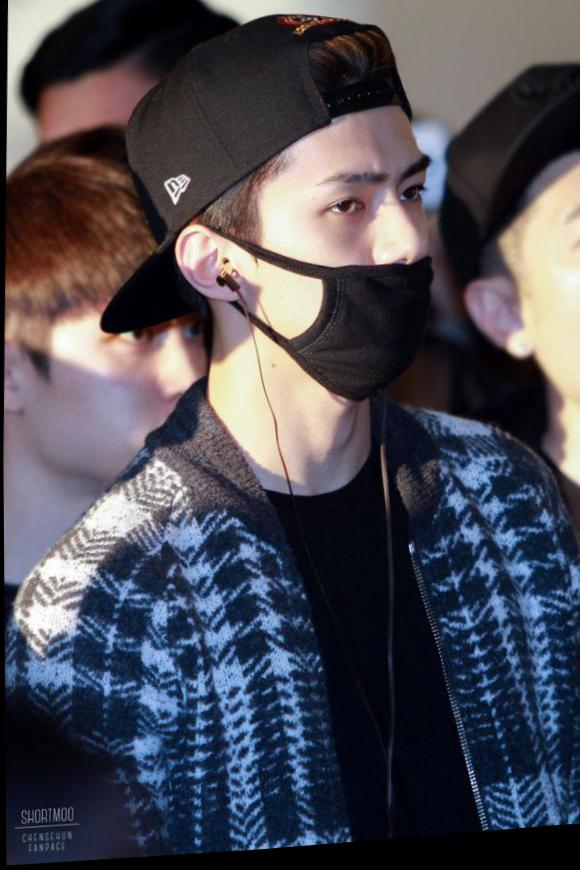NONE: (48, 293, 227, 489)
WRONG: (231, 152, 466, 401)
